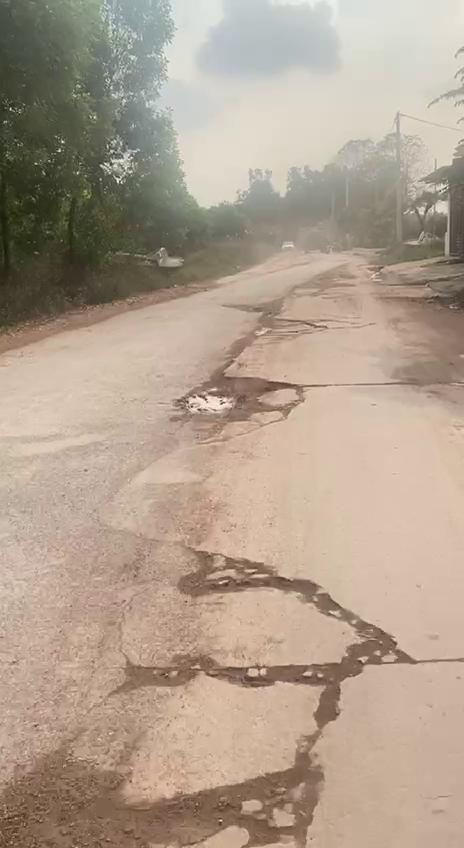pothole: (137, 540, 405, 699), (20, 734, 336, 848), (178, 374, 302, 426)
